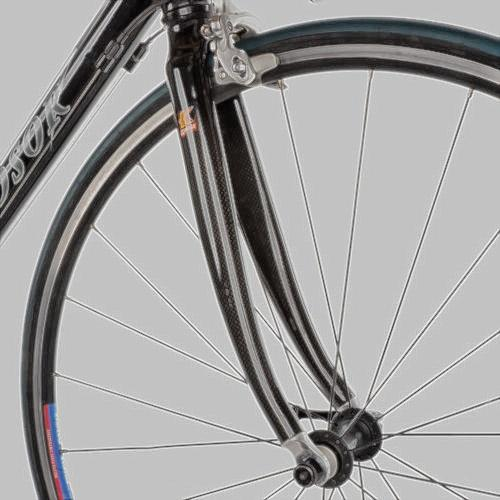bicycle: (26, 11, 483, 499)
